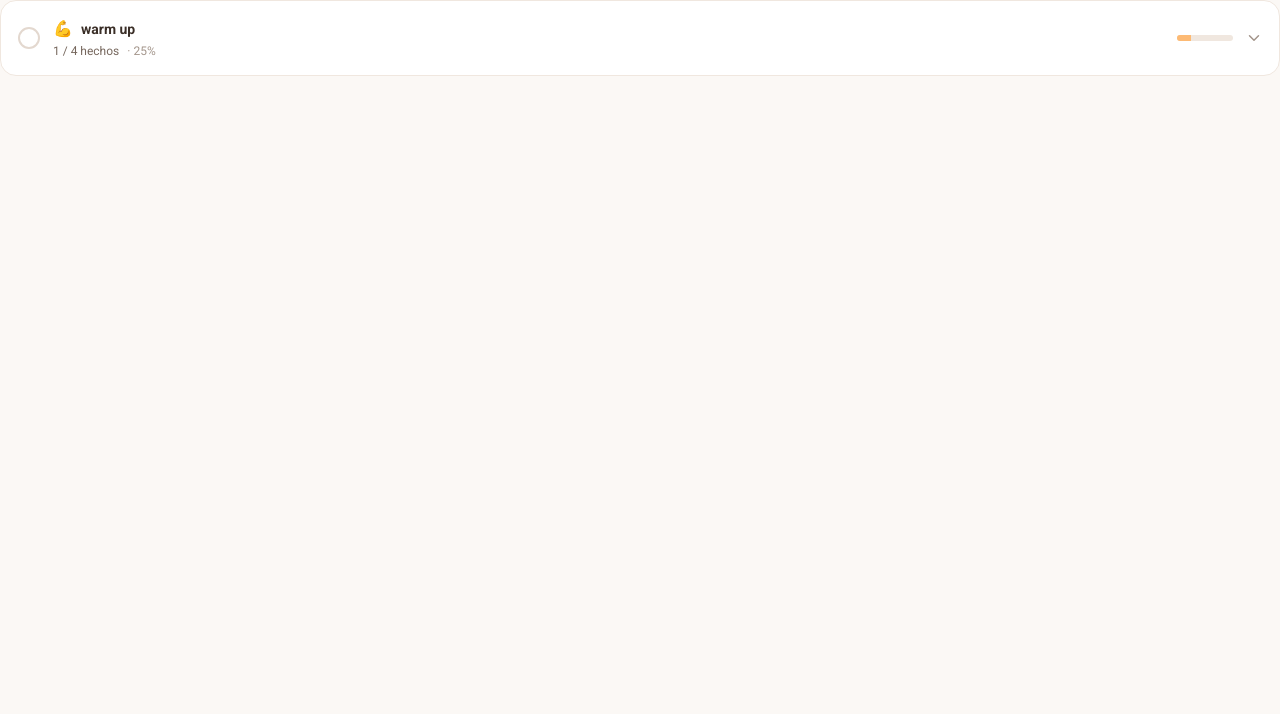
it: lo resuelto en una línea › al cerrar el último del grupo, el grupo pasa a resumen
Step 1. Click the text "warm up" → (108, 29), box [81,19,135,39]
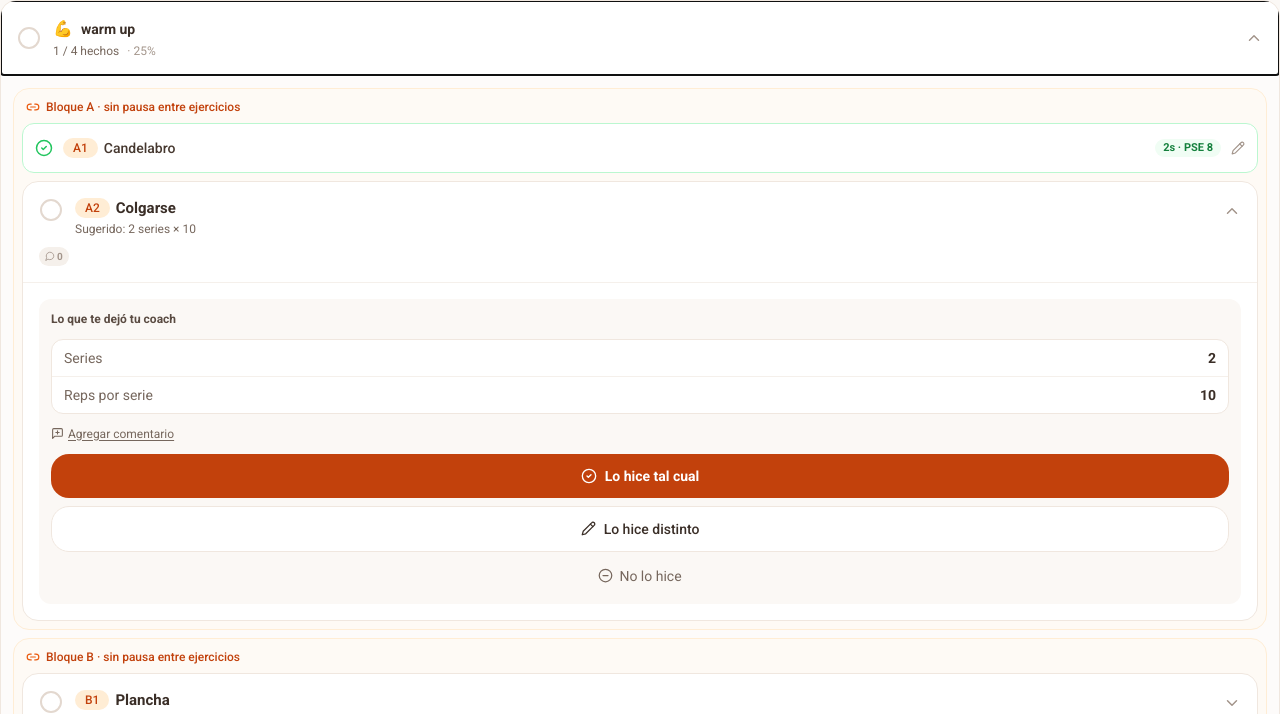
Note: El primer pendiente (A2) viene abierto por el bloque guiado.
Step 2. Click the button "Lo hice tal cual" → (640, 476), box [51,454,1229,498]
(page scrolled)
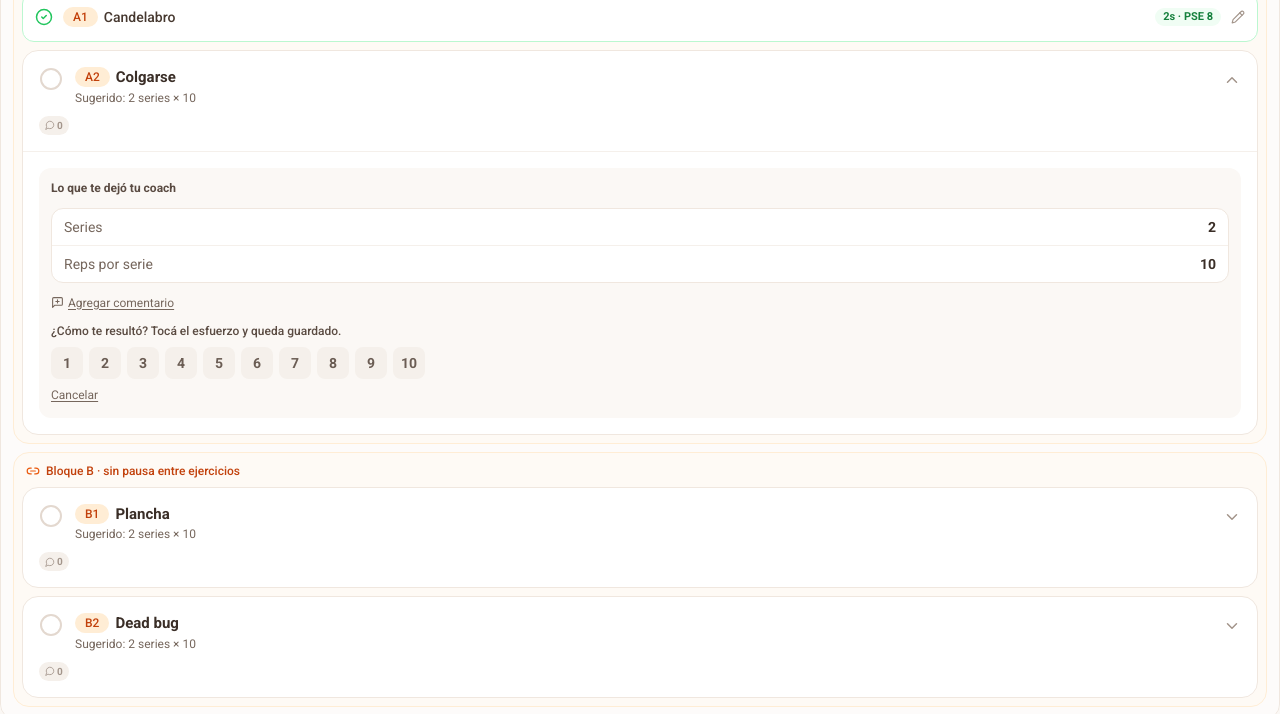
Step 3. Click the button named "PSE 6" → (257, 363), box [241,347,273,379]
(page scrolled)
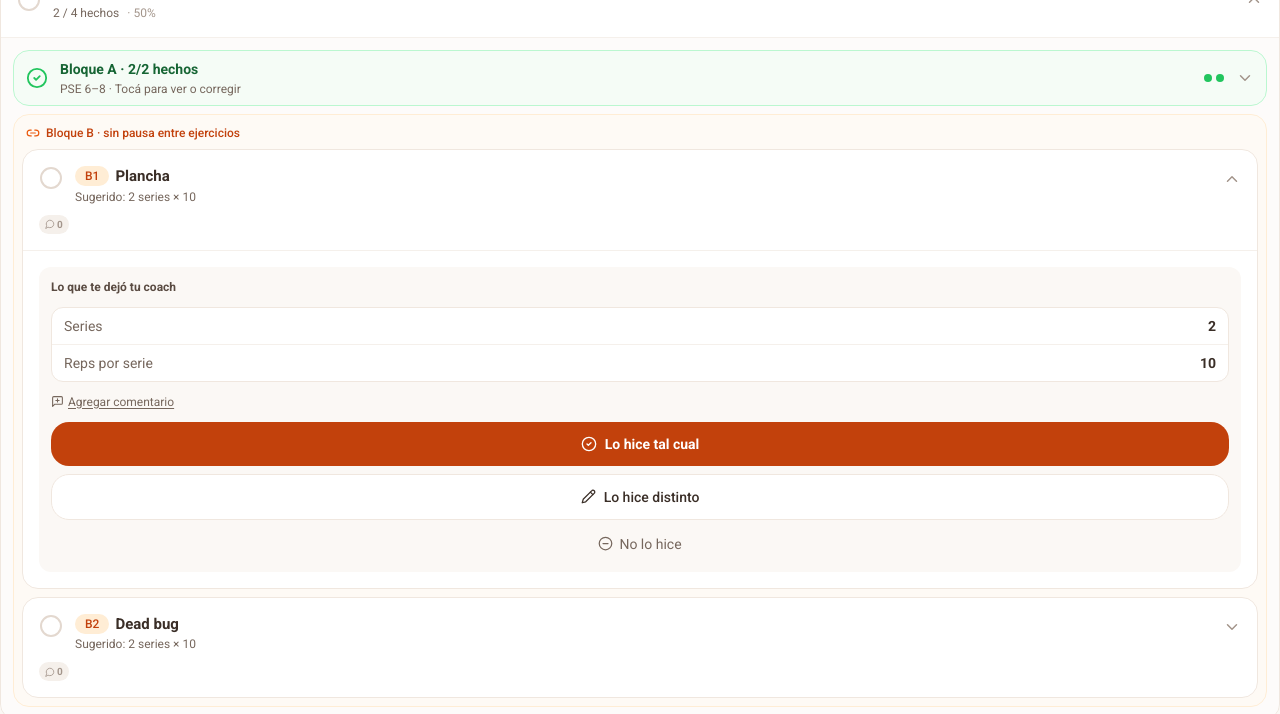
Expected: the text "Bloque A · 2/2 hechos" is shown, [60,61,198,77]
Expected: the text "Colgarse" is gone
